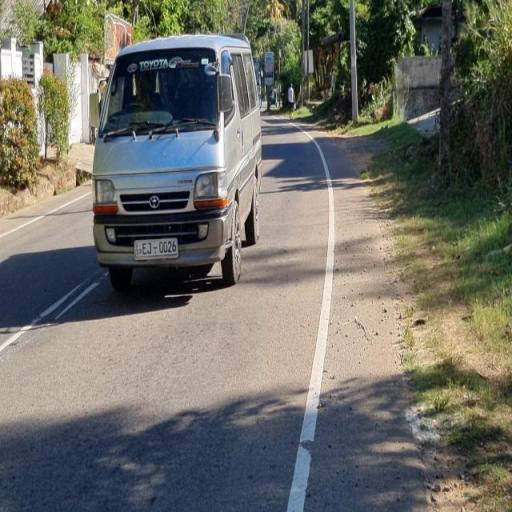double_white_line: (0, 270, 103, 357)
